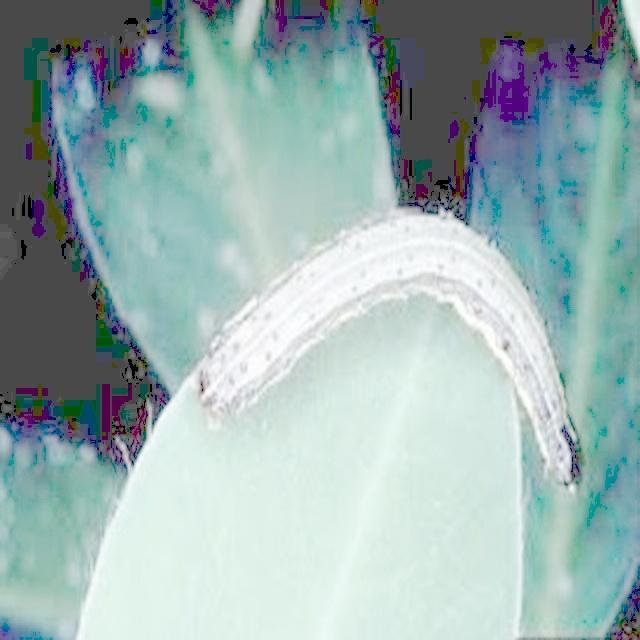gusano_cogollero: (192, 206, 584, 484)
